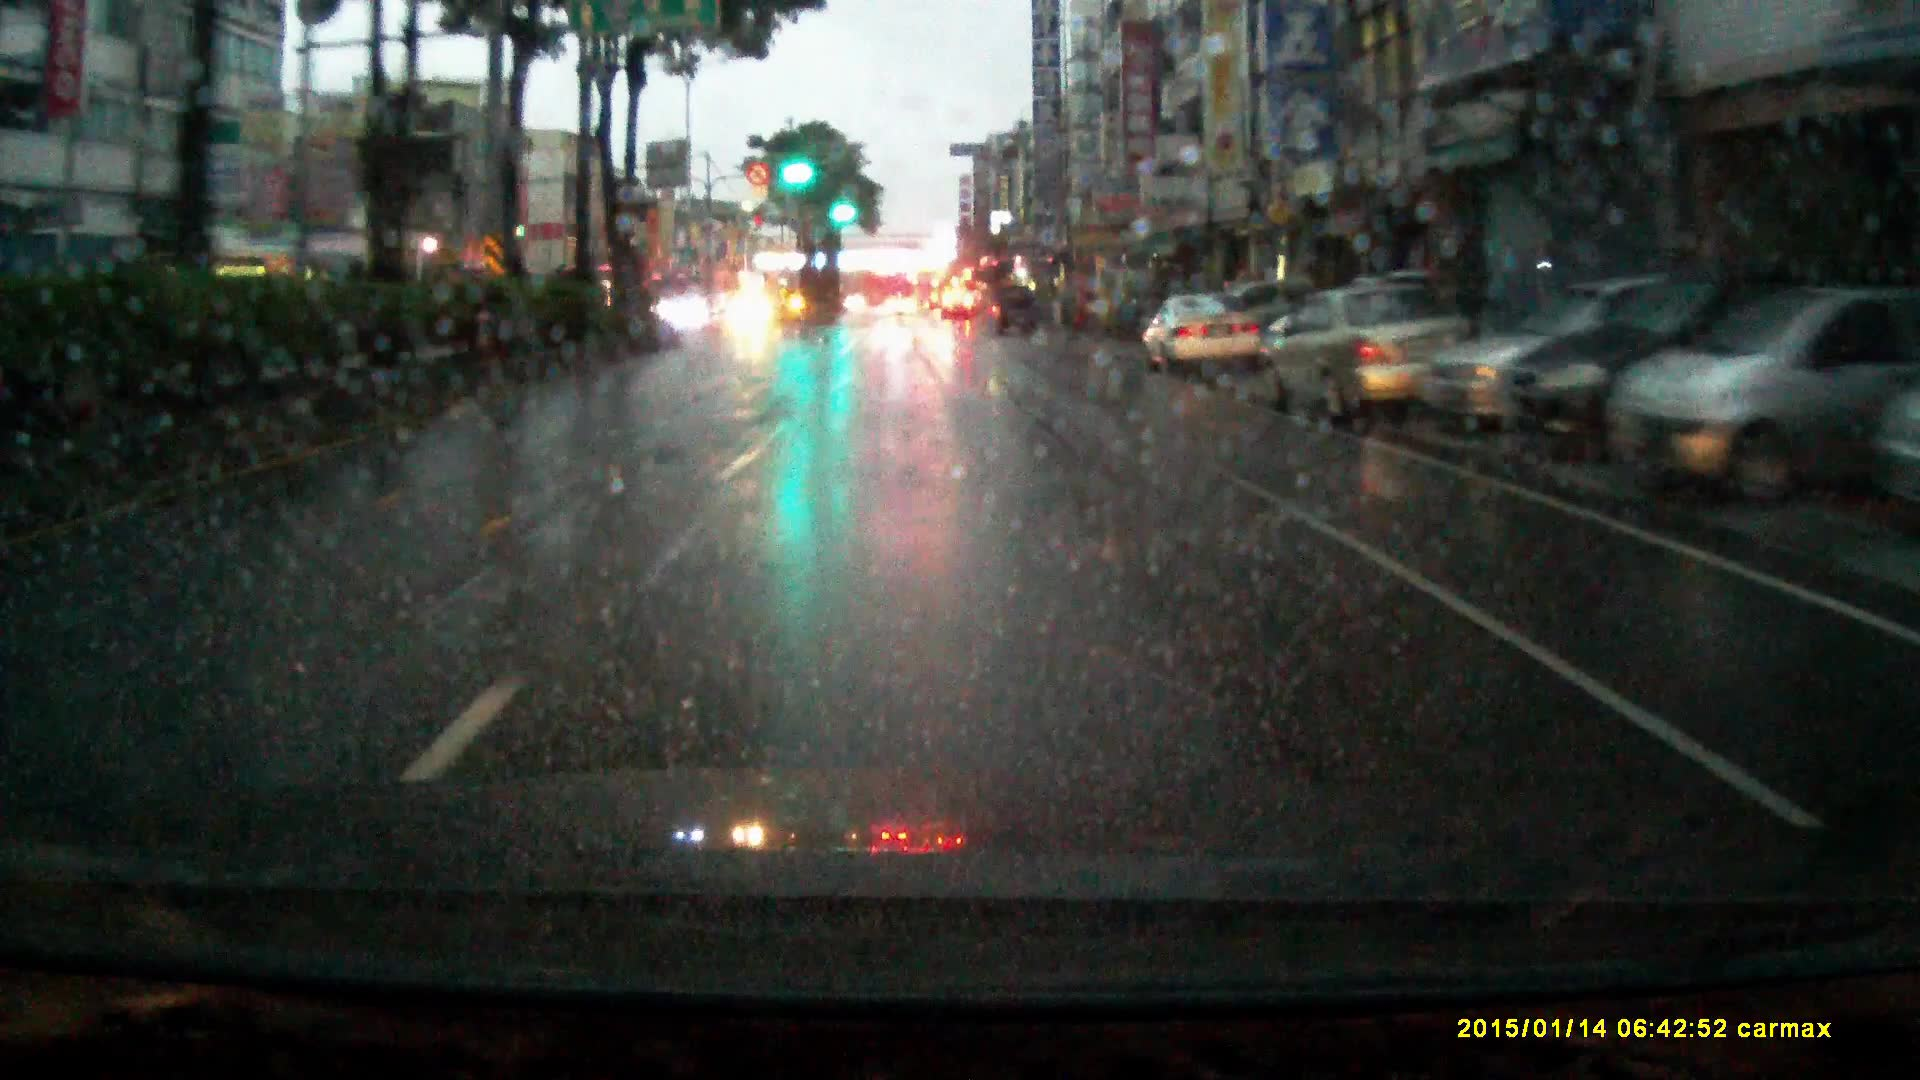vehicle: (1622, 309, 1915, 506), (1513, 290, 1782, 471), (1257, 289, 1486, 436), (1429, 301, 1639, 439), (1142, 290, 1270, 378), (723, 301, 779, 349), (985, 293, 1036, 344), (914, 277, 940, 319), (942, 297, 975, 327), (886, 305, 918, 324)
